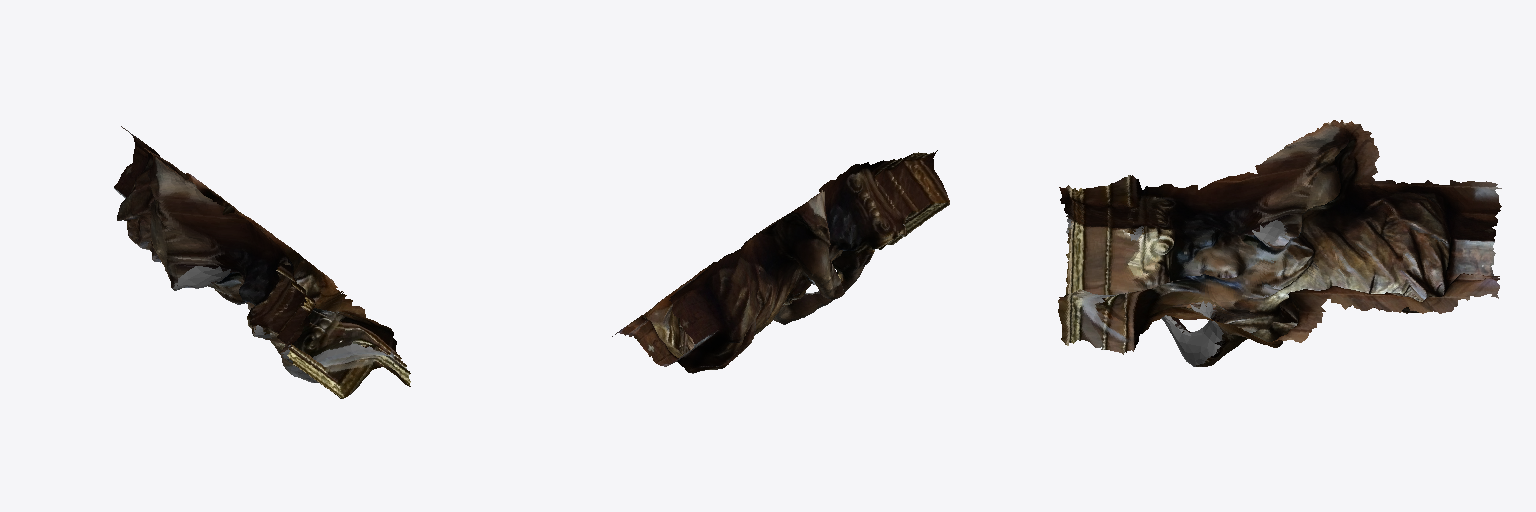
3 renders of one model, left to right at view 1: azimuth 30°, elevation 25°; view 2: azimuth 150°, elevation 25°; view 3: azimuth 270°, elevation 25°, orthographic.
Bounding box in the file's own units: 9.44 × 11.1 × 22.49.
3 materials, 2 textured.